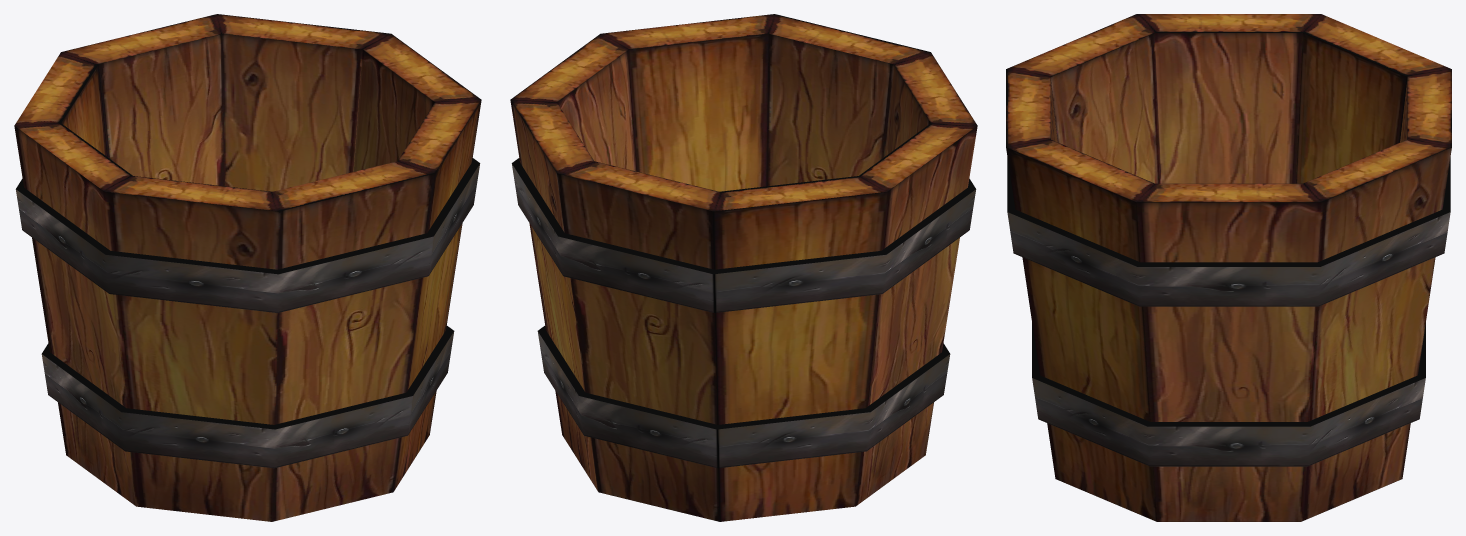
File: bucket.fbx
3 renders of one model, left to right at view 1: azimuth 30°, elevation 25°; view 2: azimuth 150°, elevation 25°; view 3: azimuth 270°, elevation 25°, orthographic. The views are drawn at different scales.
Parts seen in each view (by area): view 1: pasted__bucket14; view 2: pasted__bucket14; view 3: pasted__bucket14.
Boxes of the visible parts, x1,y1,x2,y2 form: pasted__bucket14: (14, 14, 481, 521); pasted__bucket14: (510, 14, 977, 521); pasted__bucket14: (1006, 14, 1451, 521).
Size of the model in its own units: 0.9738 by 0.8202 by 0.9738.
Materials: 1 (1 with a texture image).
